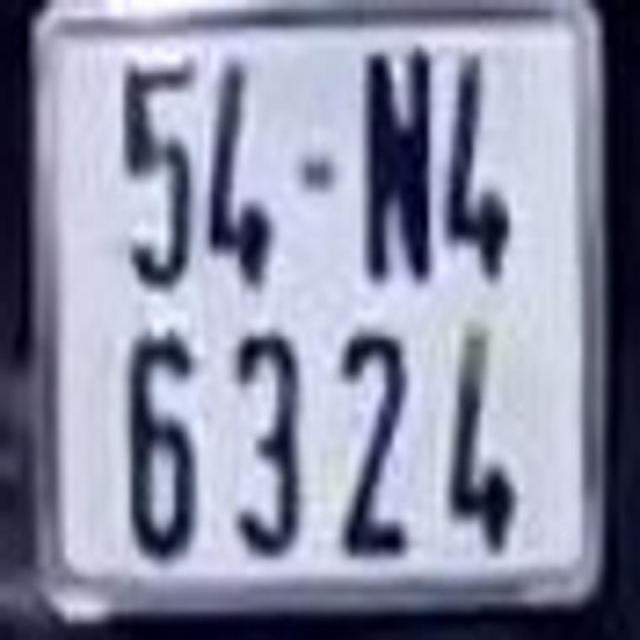2: (337, 327, 407, 555)
3: (233, 331, 299, 560)
4: (450, 322, 523, 553), (445, 48, 511, 274), (209, 66, 275, 292)
5: (121, 55, 195, 283)
6: (126, 328, 202, 552)
N: (361, 44, 432, 286)
